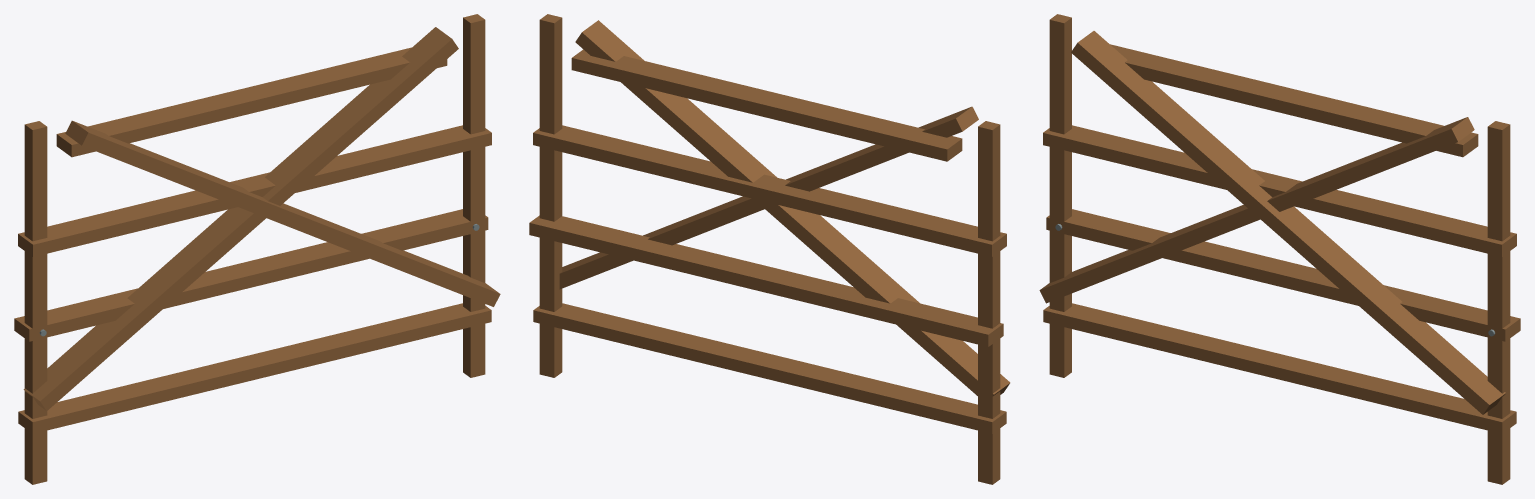
File: DeadRail_Tunnel_Entry_Boards.fbx
3 renders of one model, left to right at view 1: azimuth 30°, elevation 25°; view 2: azimuth 150°, elevation 25°; view 3: azimuth 330°, elevation 25°, orthographic.
Visible parts, largest first — view 1: Barricade_Plank_04, Barricade_Plank_00, Barricade_Plank_02, Barricade_Plank_01, Barricade_Plank_05, Barricade_Plank_03, Timber_Anchor_Post, Timber_Anchor_Post.001; view 2: Barricade_Plank_04, Barricade_Plank_01, Barricade_Plank_00, Barricade_Plank_02, Barricade_Plank_03, Timber_Anchor_Post.001, Timber_Anchor_Post, Barricade_Plank_05; view 3: Barricade_Plank_05, Barricade_Plank_00, Barricade_Plank_02, Barricade_Plank_01, Barricade_Plank_03, Barricade_Plank_04, Timber_Anchor_Post.001, Timber_Anchor_Post.
Boxes of the visible parts, x1=… form: Barricade_Plank_04: x1=23, y1=27, x2=458, y2=410; Barricade_Plank_00: x1=18, y1=303, x2=491, y2=433; Barricade_Plank_02: x1=18, y1=125, x2=491, y2=256; Barricade_Plank_01: x1=14, y1=209, x2=488, y2=341; Barricade_Plank_05: x1=65, y1=120, x2=500, y2=306; Barricade_Plank_03: x1=56, y1=47, x2=447, y2=157; Timber_Anchor_Post: x1=24, y1=121, x2=47, y2=484; Timber_Anchor_Post.001: x1=463, y1=14, x2=485, y2=377; Barricade_Plank_04: x1=575, y1=20, x2=1010, y2=396; Barricade_Plank_01: x1=529, y1=215, x2=1003, y2=346; Barricade_Plank_00: x1=533, y1=303, x2=1006, y2=433; Barricade_Plank_02: x1=533, y1=125, x2=1006, y2=256; Barricade_Plank_03: x1=571, y1=49, x2=962, y2=161; Timber_Anchor_Post.001: x1=539, y1=14, x2=562, y2=377; Timber_Anchor_Post: x1=978, y1=121, x2=1000, y2=484; Barricade_Plank_05: x1=559, y1=106, x2=978, y2=289; Barricade_Plank_05: x1=1071, y1=31, x2=1505, y2=414; Barricade_Plank_00: x1=1043, y1=303, x2=1516, y2=433; Barricade_Plank_02: x1=1043, y1=125, x2=1516, y2=256; Barricade_Plank_01: x1=1046, y1=209, x2=1520, y2=341; Barricade_Plank_03: x1=1110, y1=44, x2=1478, y2=157; Barricade_Plank_04: x1=1039, y1=117, x2=1474, y2=303; Timber_Anchor_Post.001: x1=1487, y1=121, x2=1510, y2=484; Timber_Anchor_Post: x1=1049, y1=14, x2=1071, y2=377.
Size of the model in its own units: 8.8 by 6.5 by 0.965.
